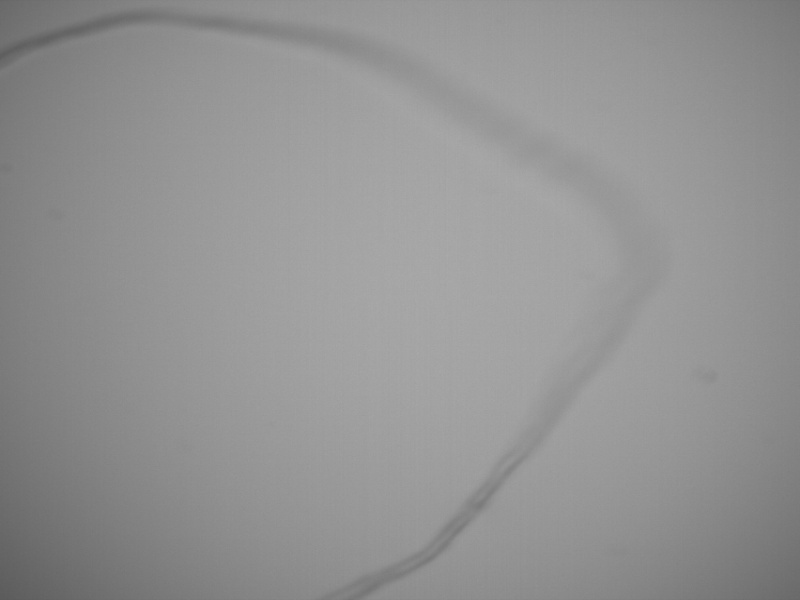fiber: (1, 10, 673, 600)
